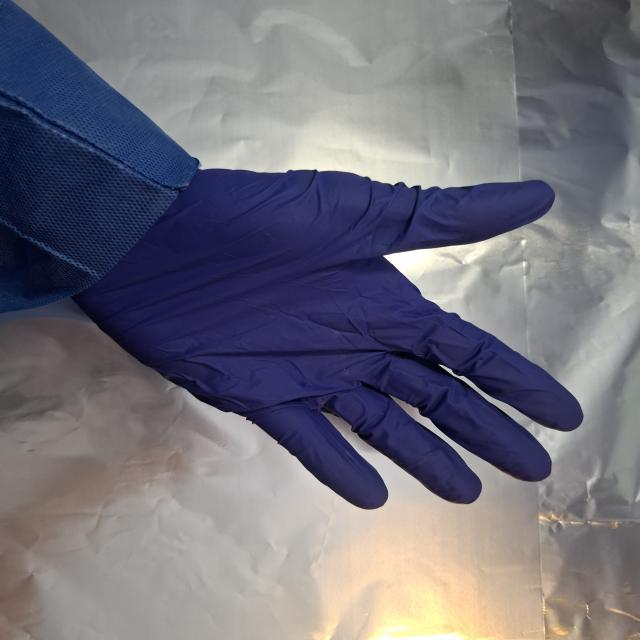glove_on: (69, 166, 586, 511)
